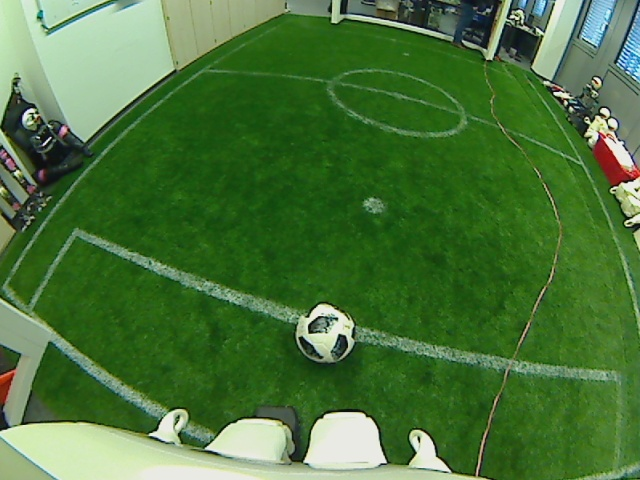ball: (293, 301, 357, 366)
